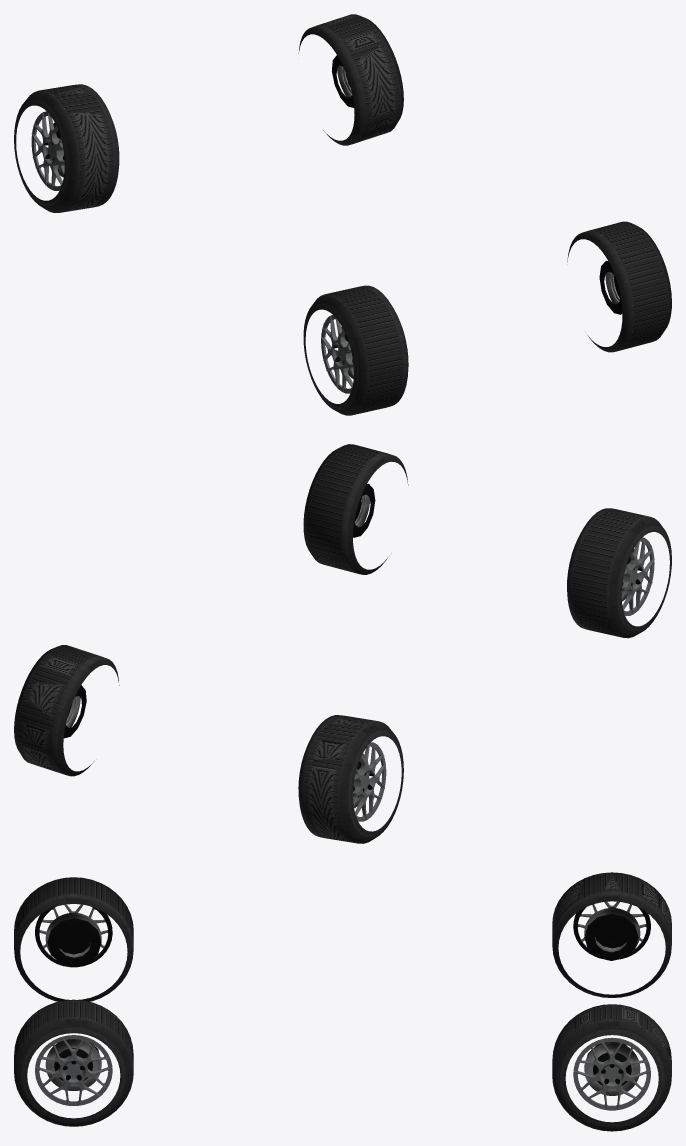
File: wheel-role-seorin-gt.glb
The picture shows the model from 3 angles, top to bottom: view 1: azimuth 30°, elevation 25°; view 2: azimuth 150°, elevation 25°; view 3: azimuth 270°, elevation 25°; orthographic projection. The views are drawn at different scales.
Visible parts, largest first — view 1: Material3 (×4), Material2; view 2: Material3 (×4), Material2; view 3: Material3 (×4), Material2.
Part boxes in pixels (left/top/right/bottom): Material3 (×4): left=14, top=14, right=671, bottom=415; Material2: left=35, top=55, right=622, bottom=365; Material3 (×4): left=14, top=444, right=671, bottom=843; Material2: left=63, top=483, right=643, bottom=817; Material3 (×4): left=14, top=872, right=671, bottom=1131; Material2: left=35, top=906, right=650, bottom=1099.
Bounding box in the file's own units: 14903 × 4776 × 25618.
5 materials, 5 textured.
